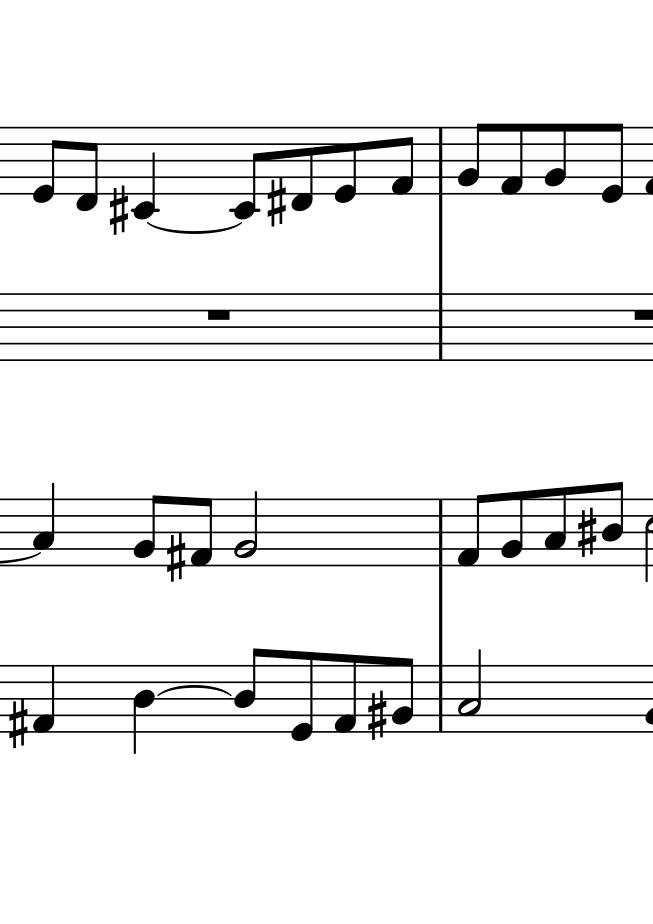2_2: (457, 648, 483, 731), (233, 489, 260, 566)
4_-2: (132, 125, 157, 221)
4_1: (32, 663, 56, 734)
4_3: (32, 483, 56, 567)
4_4: (132, 664, 156, 754)
8_-1: (290, 126, 316, 213), (75, 126, 100, 214)
8_-2: (230, 124, 264, 219)
8_0: (32, 126, 64, 205), (289, 651, 315, 744), (599, 122, 626, 206), (332, 125, 359, 206)
8_1: (456, 493, 490, 568), (332, 652, 359, 735), (499, 122, 525, 198), (390, 125, 416, 197), (189, 496, 214, 568)
8_2: (132, 494, 164, 566), (456, 122, 487, 195), (390, 656, 416, 734), (499, 490, 524, 568), (542, 122, 568, 196)
8_3: (542, 486, 569, 570)
8_4: (233, 646, 266, 735), (601, 480, 625, 566)
Rests1: (204, 306, 232, 323), (629, 306, 653, 321)
Sharp: (366, 689, 387, 743), (108, 184, 129, 237), (266, 176, 287, 229), (7, 697, 28, 750), (165, 531, 186, 583), (577, 506, 597, 560)
Single_barline: (432, 126, 450, 196), (433, 502, 449, 567), (433, 664, 448, 733), (433, 293, 448, 361)
Slur: (155, 684, 233, 698)
